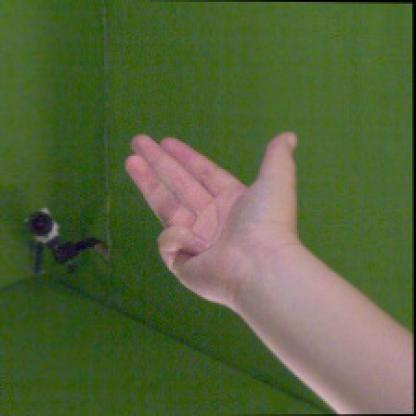Hand: (124, 132, 298, 304)
